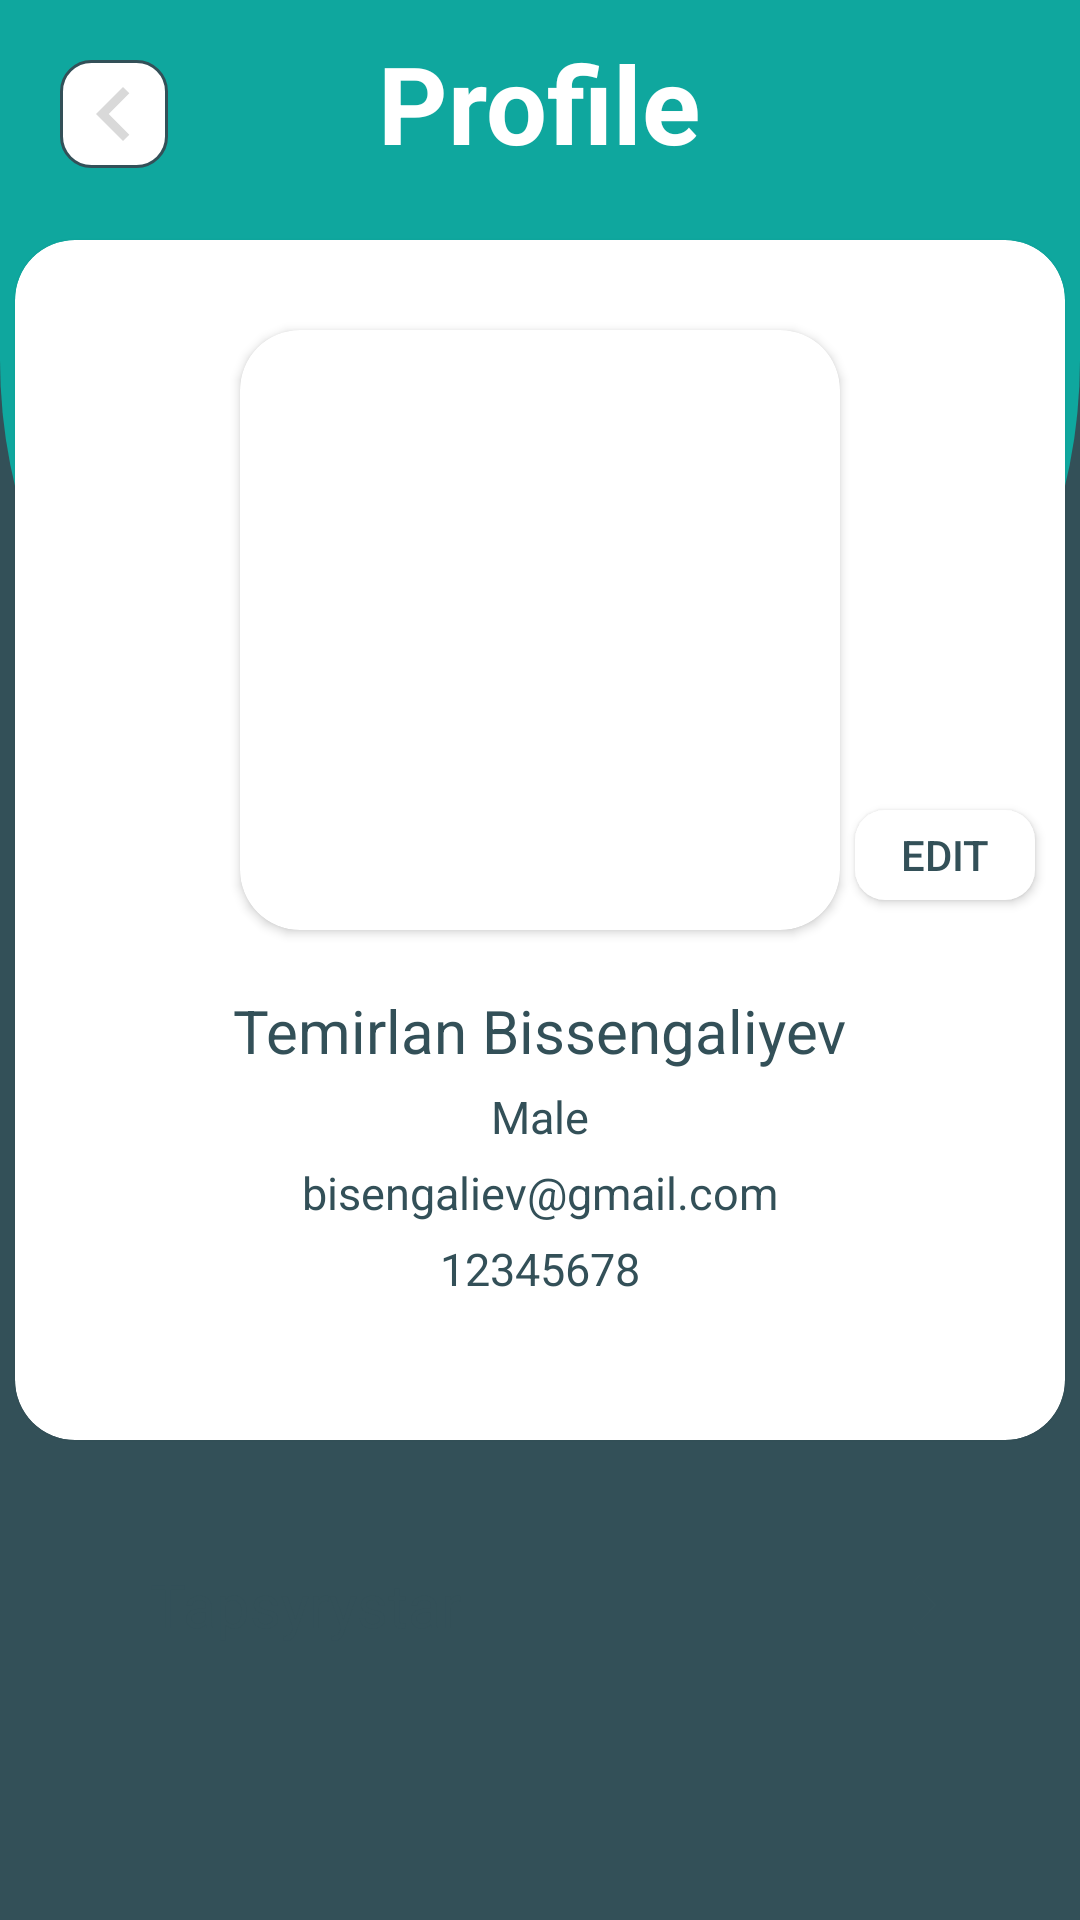

Where to tap for icons on this 1080px×1920px app screen, as [x,y]:
back: [114,114]
